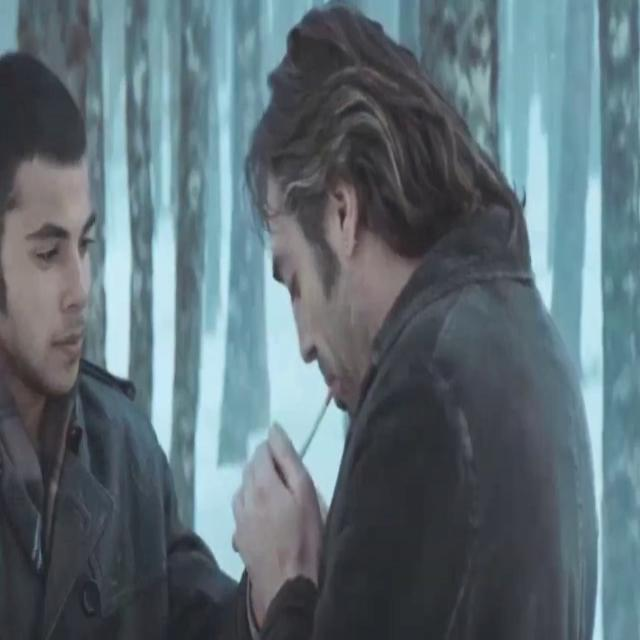Smooking: (284, 379, 334, 466)
